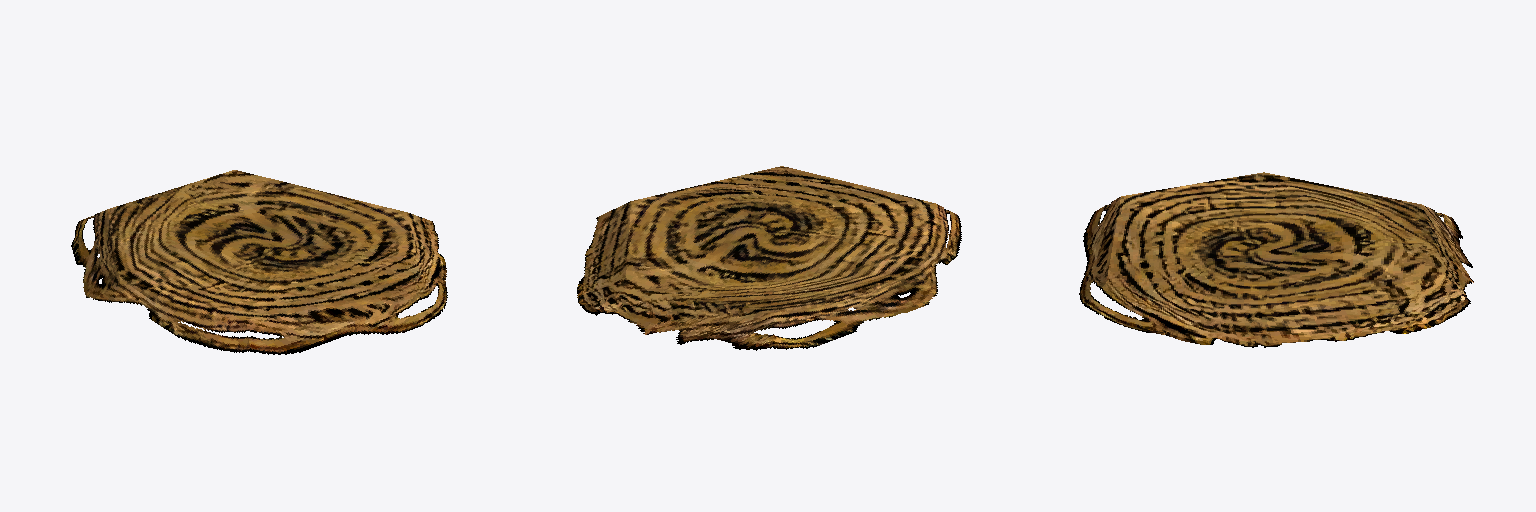
3 renders of one model, left to right at view 1: azimuth 30°, elevation 25°; view 2: azimuth 150°, elevation 25°; view 3: azimuth 270°, elevation 25°, orthographic.
Visible parts, largest first — view 1: cavekoboldropecoil; view 2: cavekoboldropecoil; view 3: cavekoboldropecoil.
Part boxes in pixels (left/top/right/bottom): cavekoboldropecoil: left=71, top=170, right=447, bottom=354; cavekoboldropecoil: left=577, top=166, right=961, bottom=350; cavekoboldropecoil: left=1079, top=172, right=1473, bottom=347.
Bounding box in the file's own units: 1.26 × 0.1022 × 1.17.
Materials: 1 (1 with a texture image).